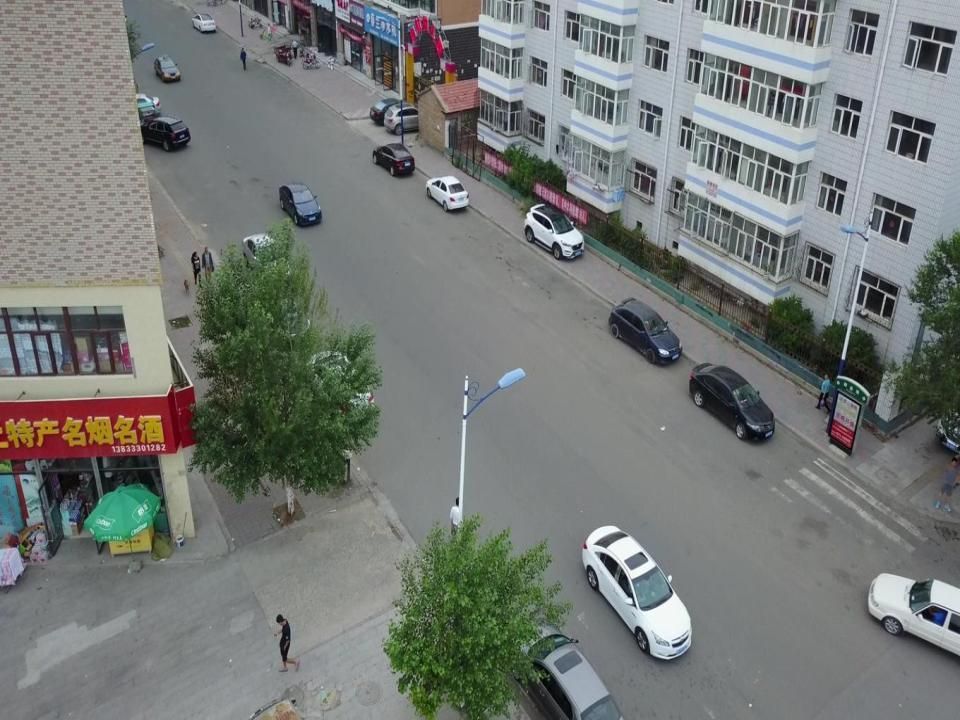car: (585, 525, 691, 659), (508, 616, 628, 720), (868, 572, 960, 664), (690, 362, 774, 440), (306, 346, 372, 424), (609, 296, 681, 364), (253, 284, 314, 348), (526, 201, 585, 260), (241, 232, 291, 285), (279, 182, 321, 226), (116, 80, 161, 121), (137, 116, 191, 148), (426, 177, 469, 211), (384, 101, 431, 131), (372, 143, 416, 172), (370, 96, 414, 122), (154, 54, 181, 82), (192, 12, 217, 34)
